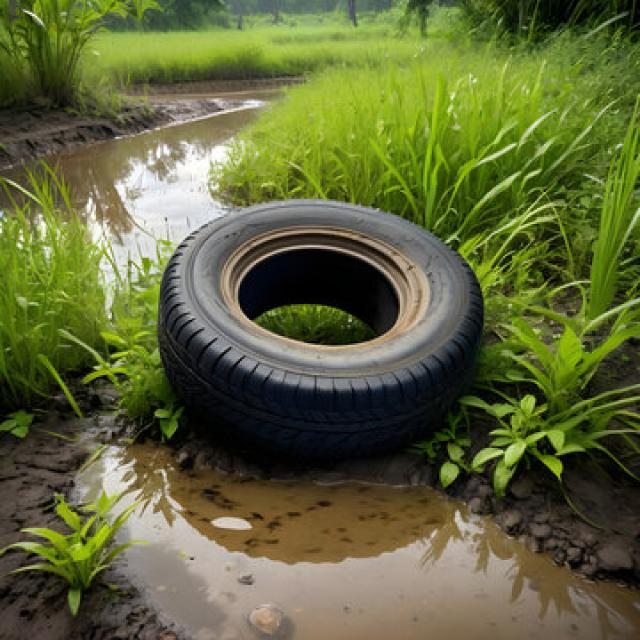tire: (154, 195, 483, 460)
